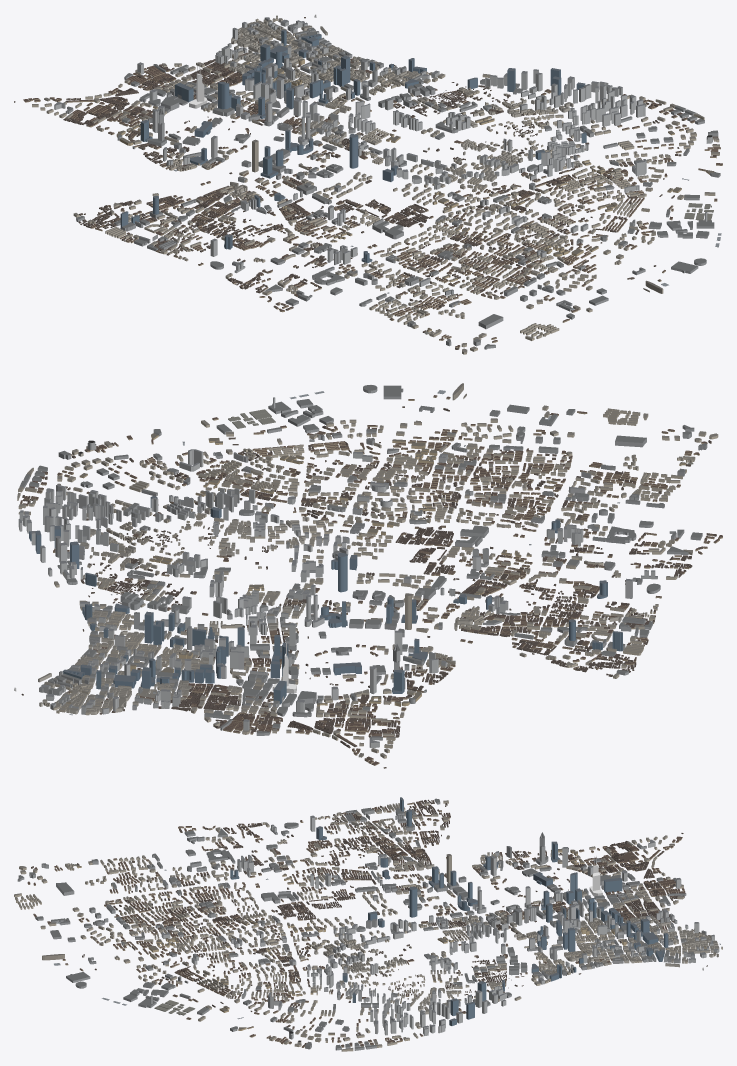
The model's file is huangpu_all.glb.
The picture shows the model from 3 angles, top to bottom: view 1: azimuth 30°, elevation 25°; view 2: azimuth 150°, elevation 25°; view 3: azimuth 270°, elevation 25°; orthographic projection. The views are drawn at different scales.
Size of the model in its own units: 4876 by 333 by 5816.
